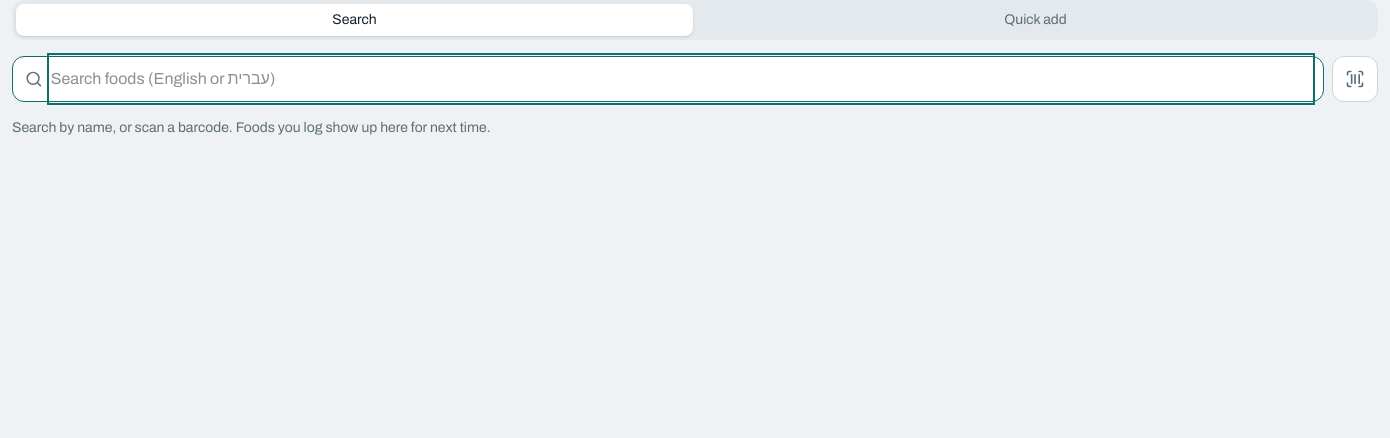
Test: AddFood › switches to quick add
Click the tab "Quick add": (1036, 20) [697,4,1374,36]
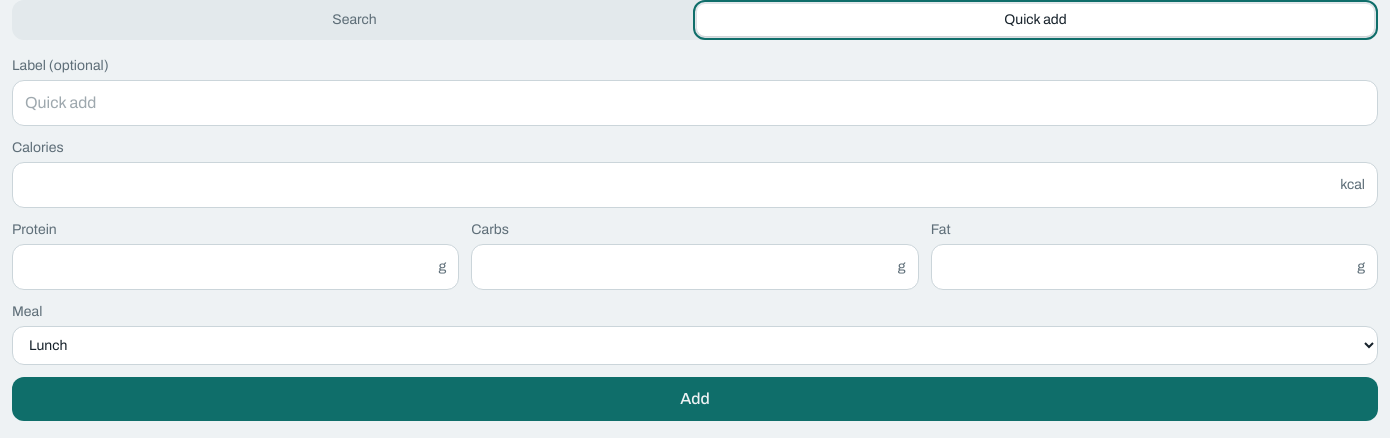
Check: the field labelled "Calories" is shown, box [25,163,1332,207]
